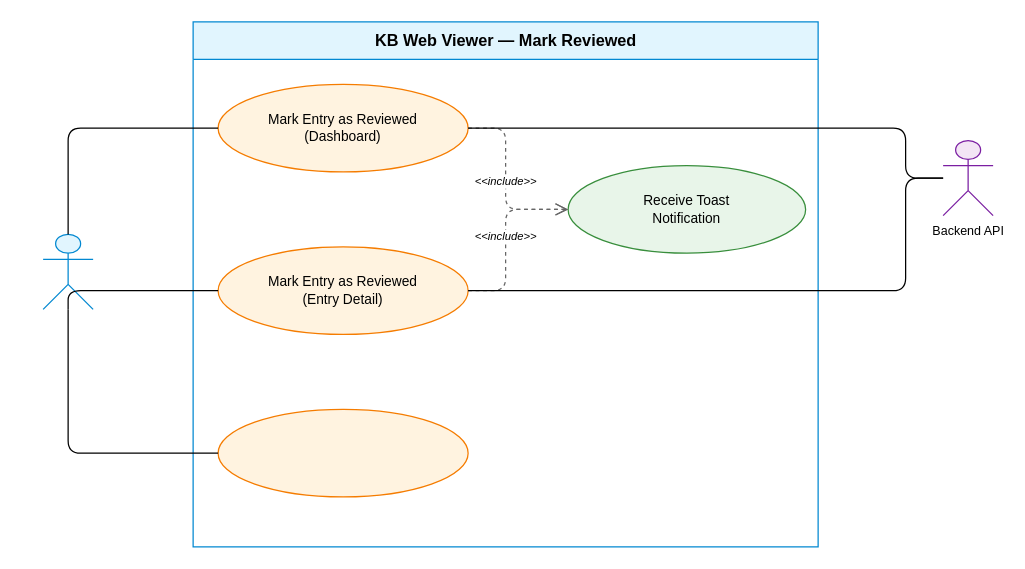
The diagram is 1025 pixels wide and 569 high, and some of its shapes have lost their labels. The shapes that lost their labels are listed below. From the top down, each one's box as (x1, y1, x2, y2) in pixels, then its label:
(42, 233, 93, 309): KB Administrator
(217, 408, 468, 497): View Due Reviews
